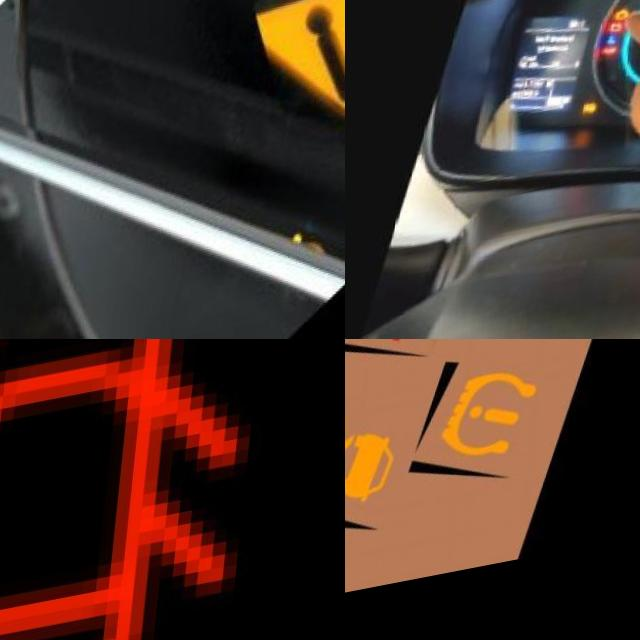Doors: (0, 339, 289, 640)
High Engine Coolant Temperature: (612, 51, 626, 64)
